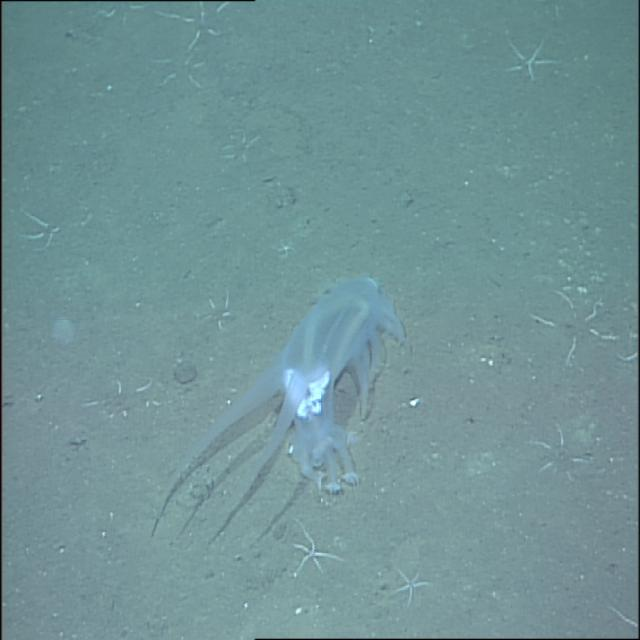Brittle Star: (533, 286, 618, 370), (284, 514, 344, 584), (499, 26, 560, 82), (386, 561, 429, 610)
Not Brittle Star: (150, 273, 412, 549)
